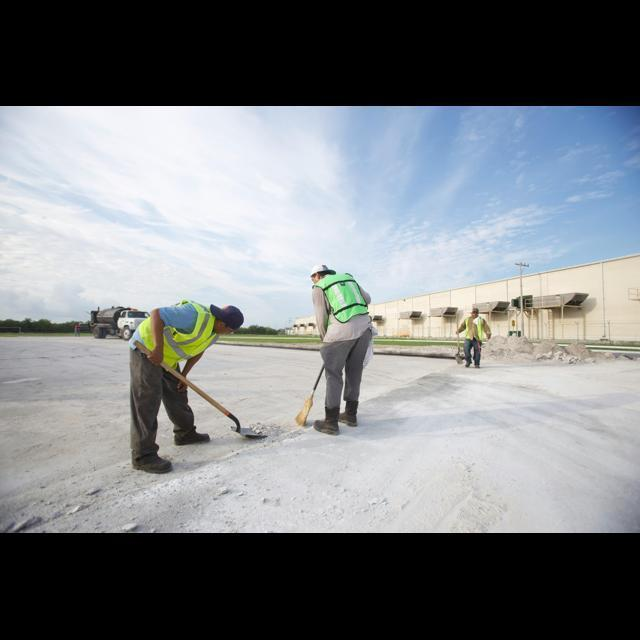Colete: (163, 300, 217, 367), (314, 273, 367, 322), (475, 318, 484, 341)
